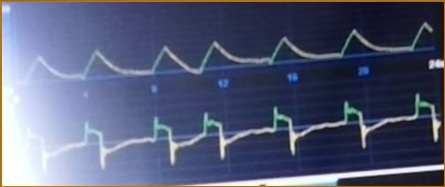Accumulation Flow: (26, 93, 445, 171)
Volume: (21, 20, 431, 88)
